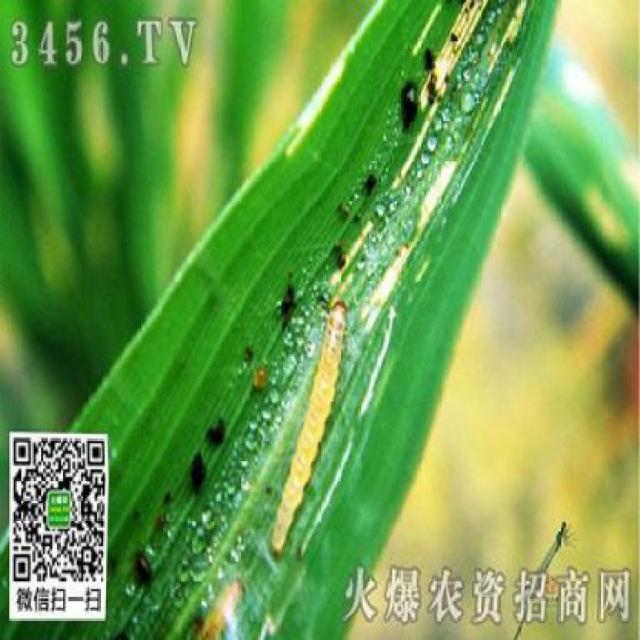leaf-folder: (264, 291, 351, 566)
